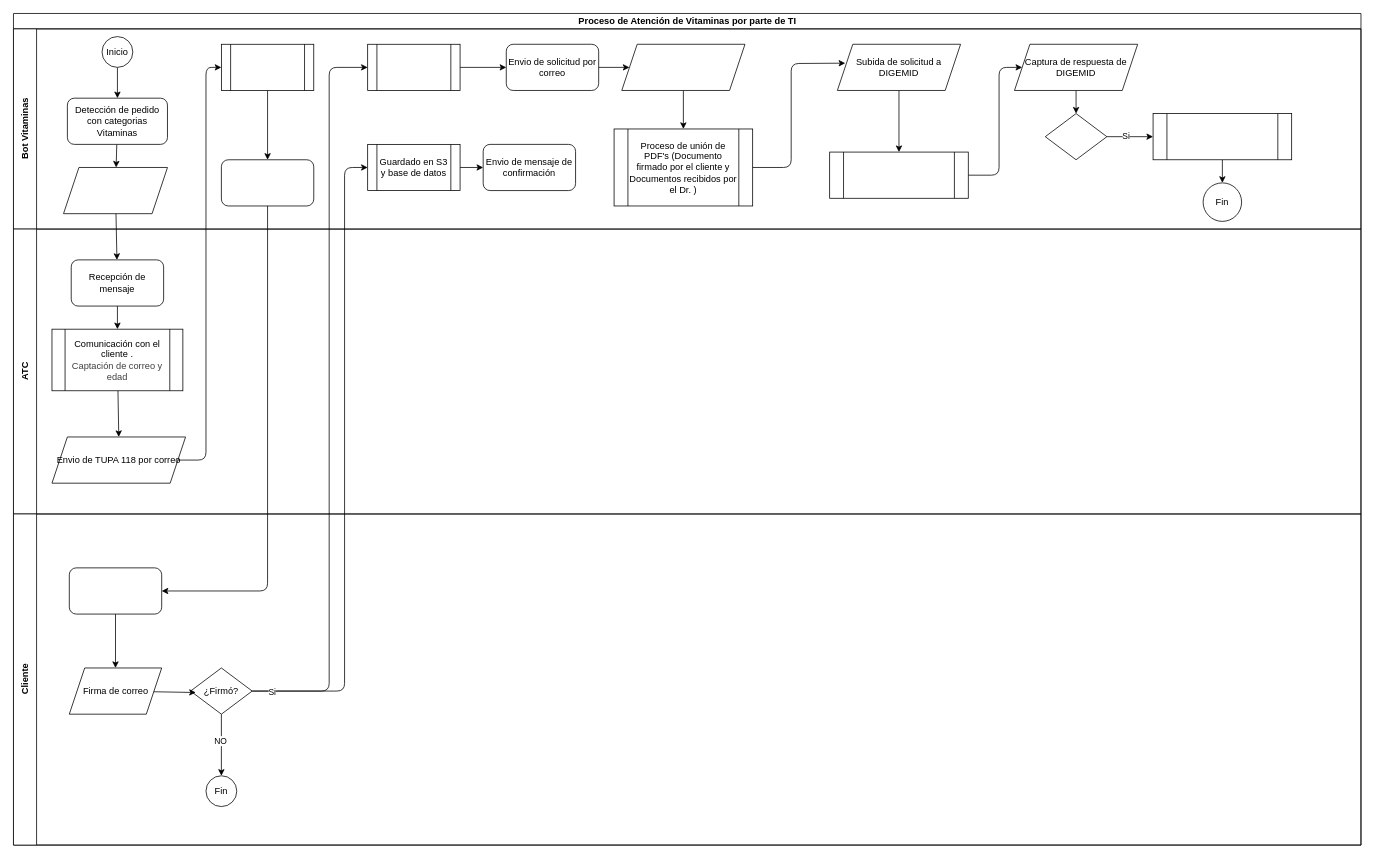
Image size: 1374x859. Some labels were removed from this diagram. The shapes that lost their labels are listed below. From the top down, each one's centre as x and y in pixels, then its label:
At (267,67): "Generación de documento TUPA 118".
At (413,67): "Generación de solicitud al Dr.".
At (683,67): "Captura de respuesta al correo del Dr.".
At (1076,136): "¿Fue exitoso?".
At (1222,136): "Guardado de documento respuesta DIGEMID".
At (115,190): "Envio de mensaje mediante WTSP".
At (267,182): "Envio de documento".
At (898,174): "Scraping a la web de DIGEMID , subida de archivo y llenado de datos".
At (115,590): "Recepción de correo".
